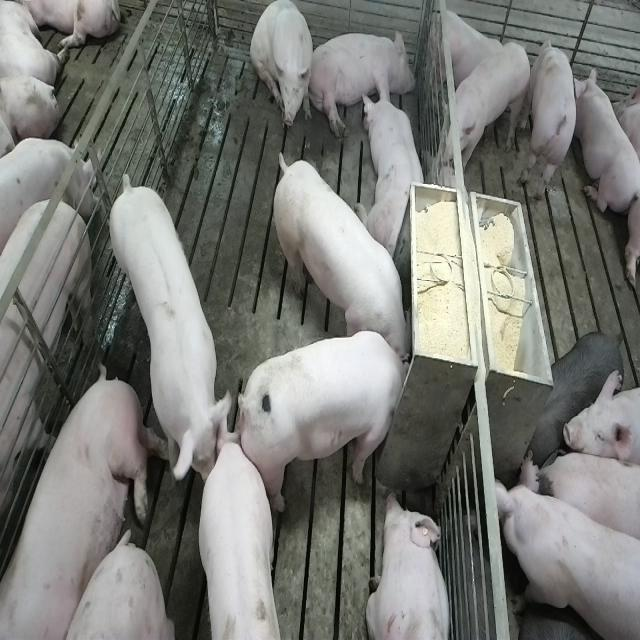Feeding: (243, 330, 420, 512), (269, 144, 411, 360)
Lateral_lying: (4, 366, 166, 640), (307, 26, 415, 140)
Sitting: (250, 3, 314, 137)
Standing: (0, 194, 95, 640), (104, 164, 232, 482), (492, 459, 638, 640), (197, 440, 286, 640), (526, 328, 623, 456), (0, 131, 99, 250), (445, 40, 533, 170), (535, 446, 640, 552), (566, 369, 640, 468)
Sternal_lying: (366, 490, 454, 640), (364, 79, 431, 257), (574, 66, 637, 214)
